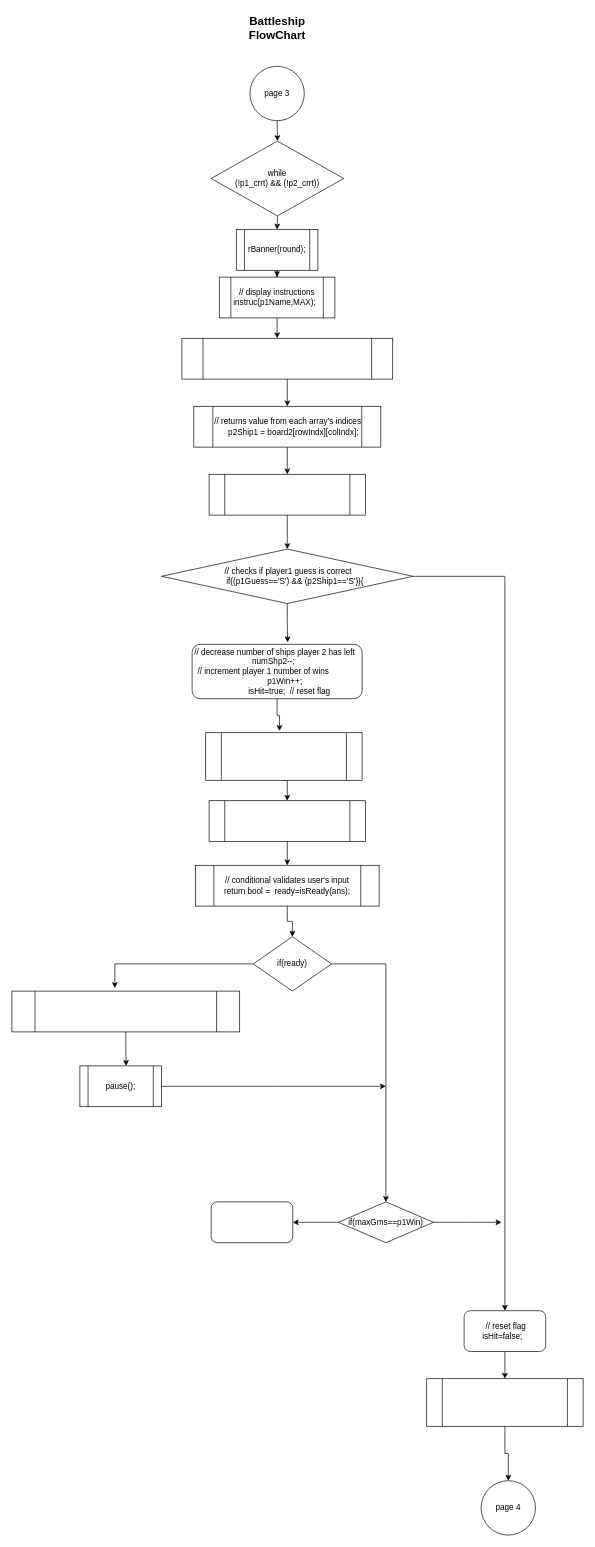
Some shapes in this 595 by 1547 pixel diagram are drawn without their labels. The shapes that lost their labels are listed below. From the top down, each one's centre as x and y in pixels, then its label:
At [287,358]: "// returns value from each array's indices p1Guess = guessP1[rowIndx][colIndx];".
At [287,494]: "showGuess(rowIndx,colIndx);".
At [283,756]: "// display HIT message for correct guess hitMiss(isHit,p1Guess,p2Ship1);".
At [287,821]: "// ask if they want to check array chckArr(ans)".
At [125,1011]: "plyrShpBrd(1,2,guessP1,board2,ROWS,COLS);".
At [251,1222]: "p1_crrt = true;".
At [504,1402]: "// display MISS message for correct guess hitMiss(isHit,p1Guess,p2Ship1)".
